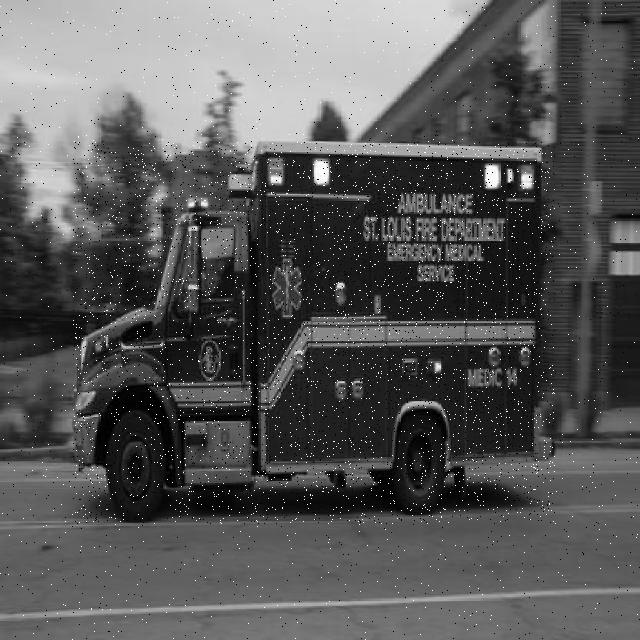Ambulance: (73, 142, 555, 524)
